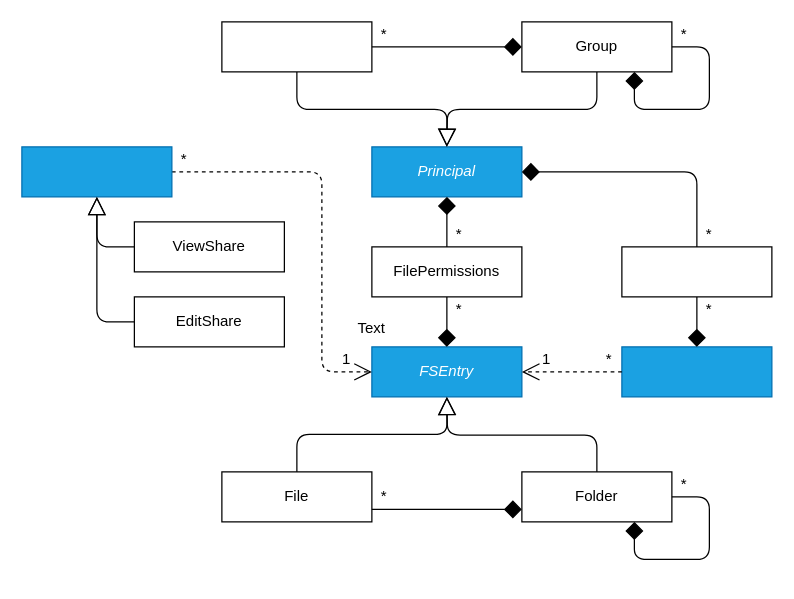
This 794x599 diagram has some shape labels left out. The shapes that lost their labels are listed below. From the top down, each one's centre as x and y in pixels, then its label:
point (296, 46): User
point (96, 171): AnonymShare
point (696, 271): SharePermissions
point (696, 371): PrivateShare
